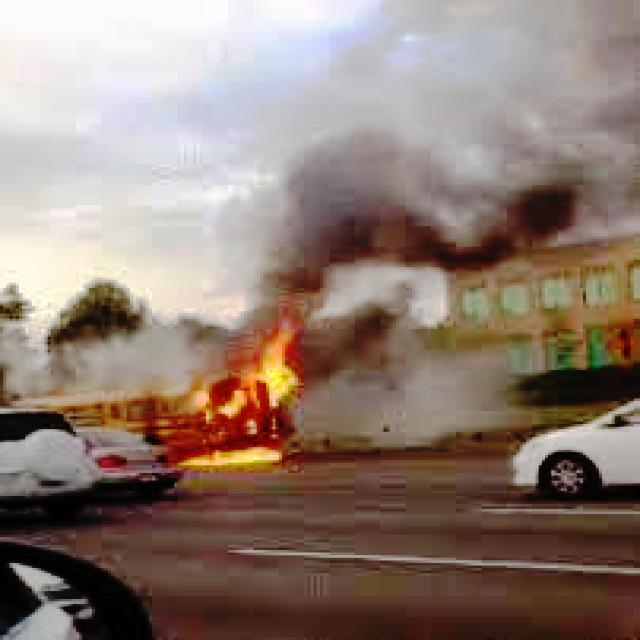api: (191, 320, 327, 471)
